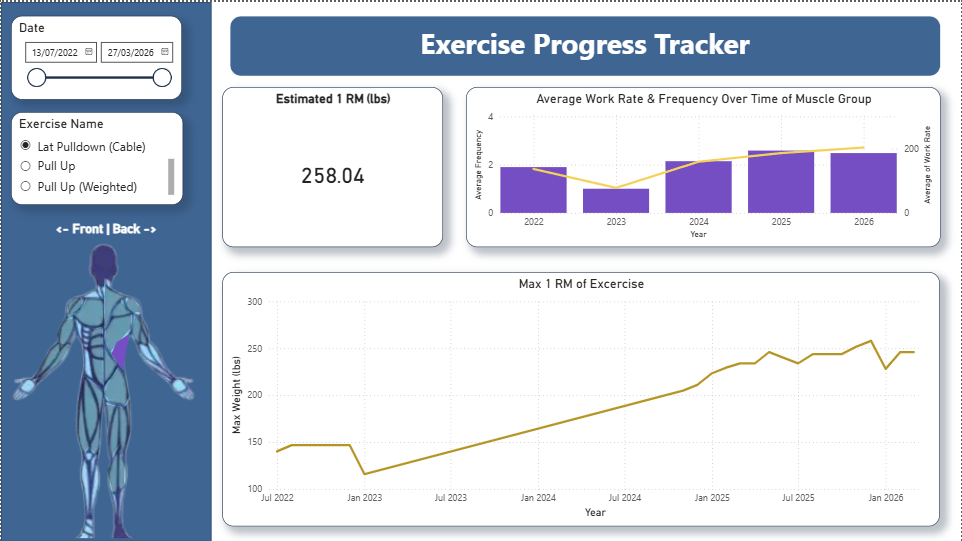

The dashboard page shown, as its layout file describes it:
{"tool":"powerbi","page":{"name":"Page 1","canvas":[1280,720],"ordinal":0},"visuals":[{"type":"shape","box":[0,0,280.6,719.4],"z":0},{"type":"lineChart","title":"Max 1 RM of Excercise","fields":{"Series":["clean1.exercise_name"],"Category":["clean1.date.Variation.Date Hierarchy.Year","clean1.date.Variation.Date Hierarchy.Month"],"Y":["Max(clean1.max_1RM)"]},"box":[295.5,359.7,956.7,338.8],"z":1000},{"type":"synopticPanelByOKVIZC365478550CD4DC0A2ED985DC3E23EED","title":"<- Front | Back ->","fields":{"category_role":["Human Anatomy (2).Muscle Name"],"legend_role":["clean1.muscle_group"]},"box":[0,291,280.6,428.4],"z":2000},{"type":"slicer","title":"Date","fields":{"Values":["clean1.date"]},"box":[13.4,17.9,228.4,111.9],"z":3000},{"type":"listSlicer","title":"Exercise Name","fields":{"Values":["clean1.exercise_name"]},"box":[13.4,146.3,229.9,123.9],"z":4000},{"type":"lineClusteredColumnComboChart","title":"Average Work Rate & Frequency Over Time of Muscle Group","fields":{"Y":["Avg(clean1.frequency)"],"Y2":["Avg(clean1.work_rate)"],"Series":["clean1.muscle_group"],"Category":["clean1.date.Variation.Date Hierarchy.Year"]},"box":[619.4,113.4,632.8,213.4],"z":5000},{"type":"card","title":"Estimated 1 RM (lbs)","fields":{"Values":["Max(clean1.max_1RM)"]},"box":[295.5,113.4,294,213.4],"z":6000},{"type":"textbox","box":[304.5,17.9,947.8,80.6],"z":6001}]}

Visuals, with their boxes in screenshot pixels (x1, y1, x2, y2), scaled from the page's 1280x720 canvas onto the 962x541 screenshot:
shape: <box>0,0,211,540</box>
"Max 1 RM of Excercise" lineChart: <box>222,270,941,525</box>
"<- Front | Back ->" synopticPanelByOKVIZC365478550CD4DC0A2ED985DC3E23EED: <box>0,219,211,540</box>
"Date" slicer: <box>10,13,182,98</box>
"Exercise Name" listSlicer: <box>10,110,183,203</box>
"Average Work Rate & Frequency Over Time of Muscle Group" lineClusteredColumnComboChart: <box>466,85,941,246</box>
"Estimated 1 RM (lbs)" card: <box>222,85,443,246</box>
textbox: <box>229,13,941,74</box>
